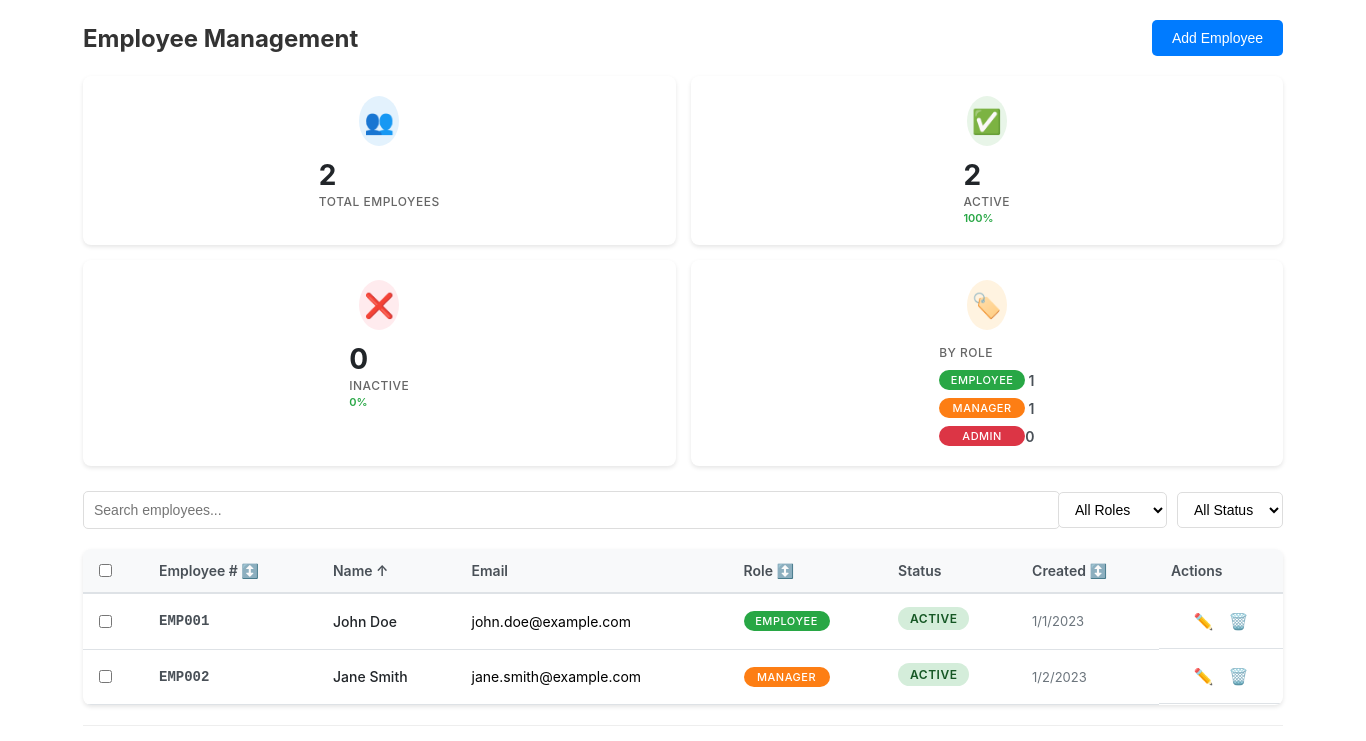
Test case: EmployeeManagement › opens employee form when Add Employee is clicked
Click the button "Add Employee" at (1217, 38), box [1152,20,1283,56]
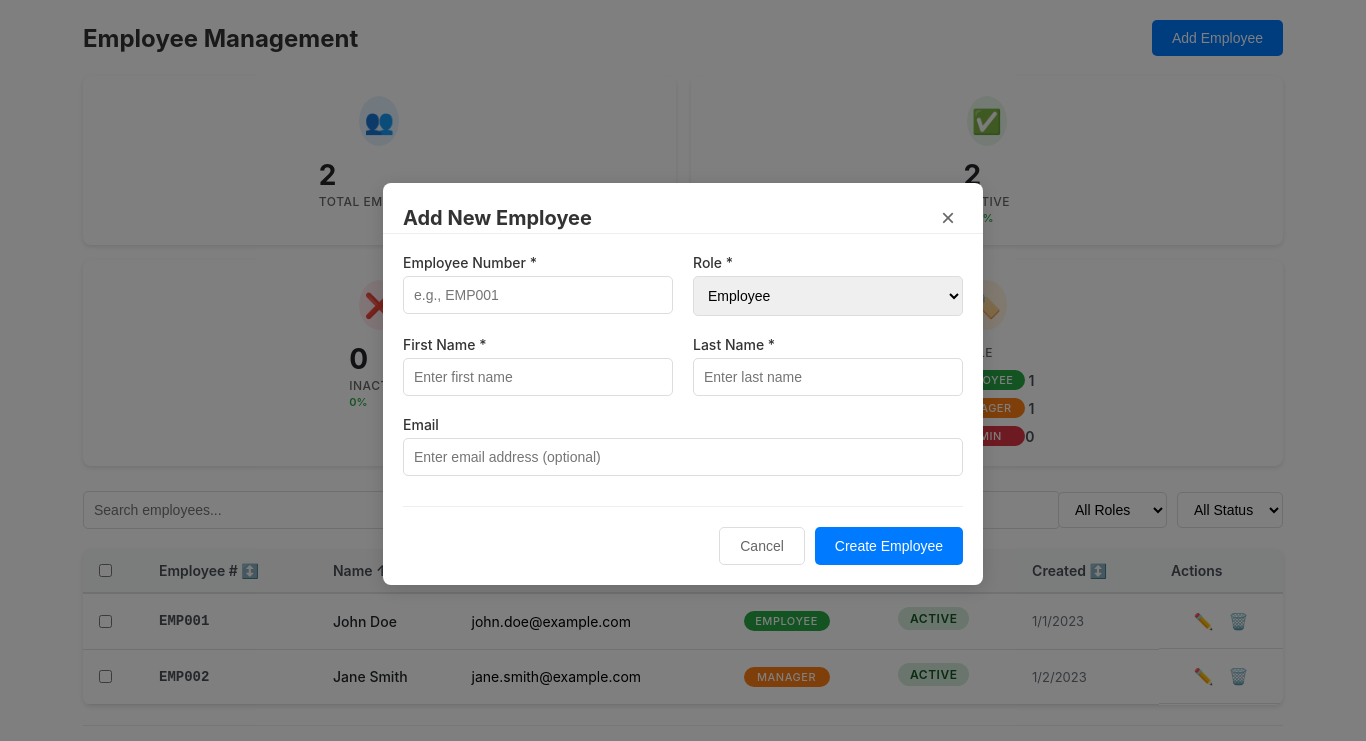
Now the heading "Add New Employee" is shown, box [403,206,592,230]
